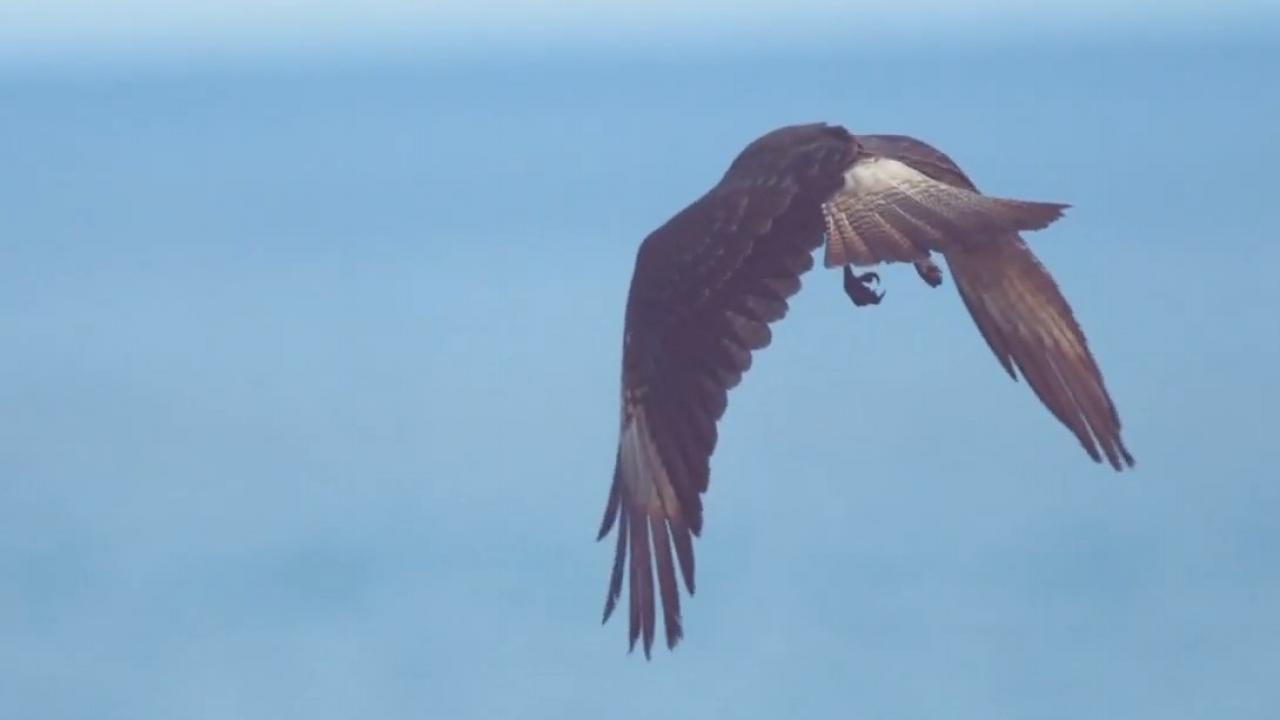Bird: (586, 110, 1146, 670)
